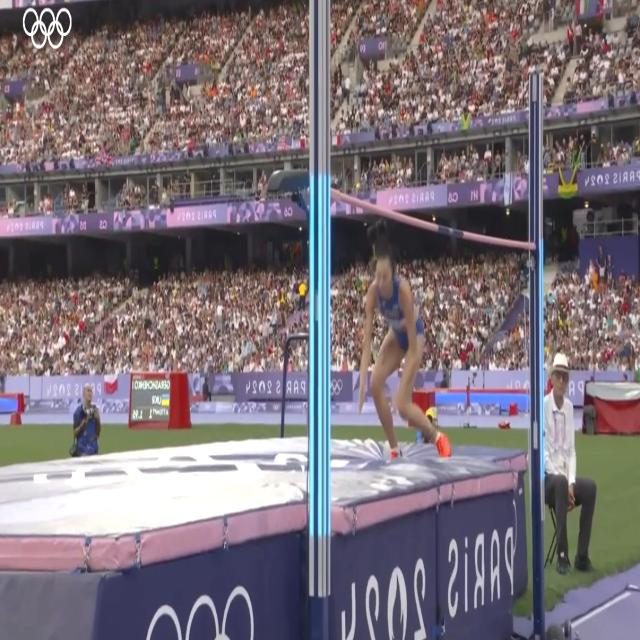land: (356, 255, 449, 459)
